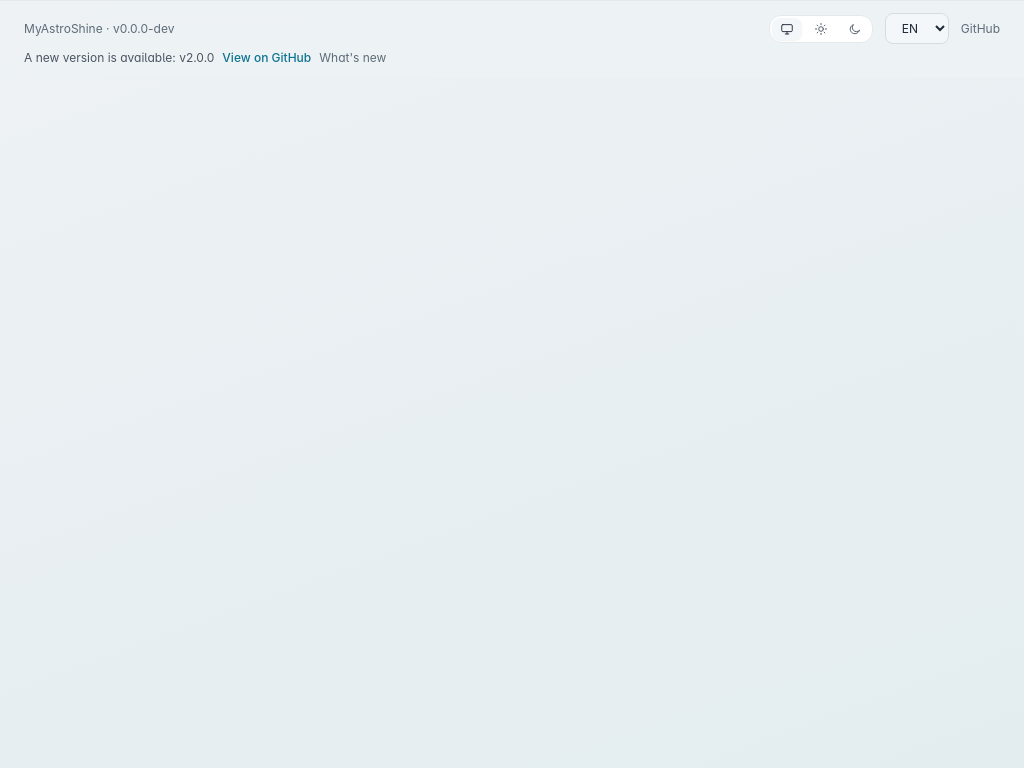
it: Footer › closes the release notes modal
Check: the text "A new version is available: v2.0.0" is shown, box left=24, top=50, right=214, bottom=66
Click the button "What's new" at coordinates (353, 58), box left=319, top=50, right=386, bottom=66
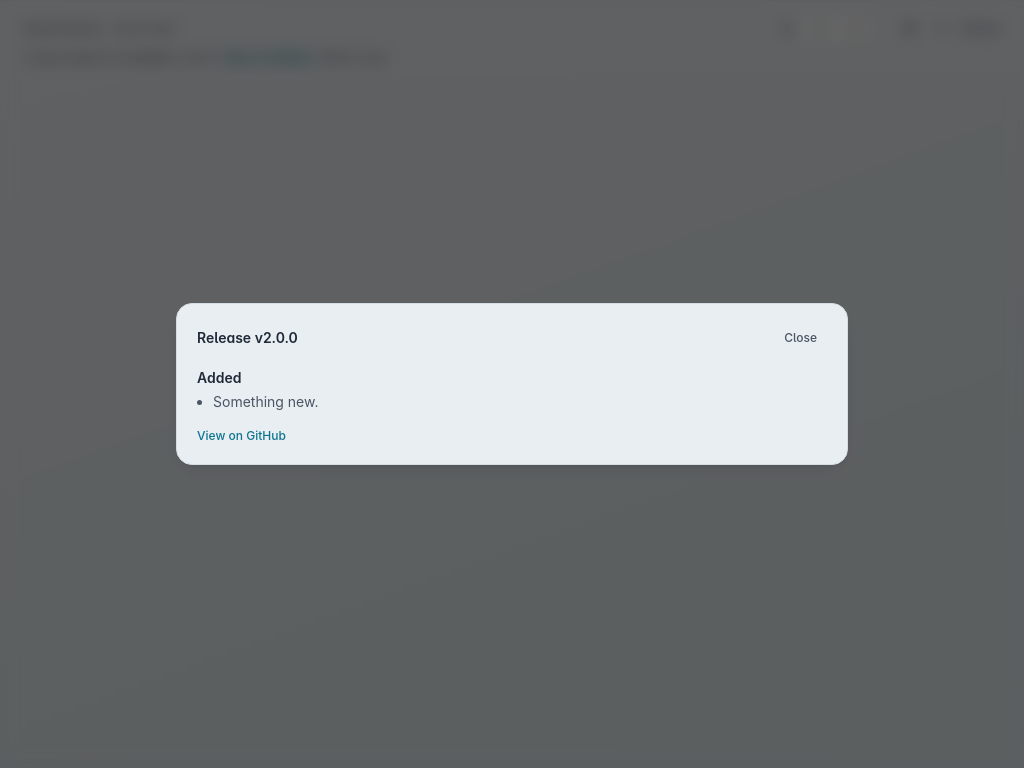
Check: the dialog is shown
Click the button "Close" at coordinates (801, 338), box left=774, top=324, right=827, bottom=352
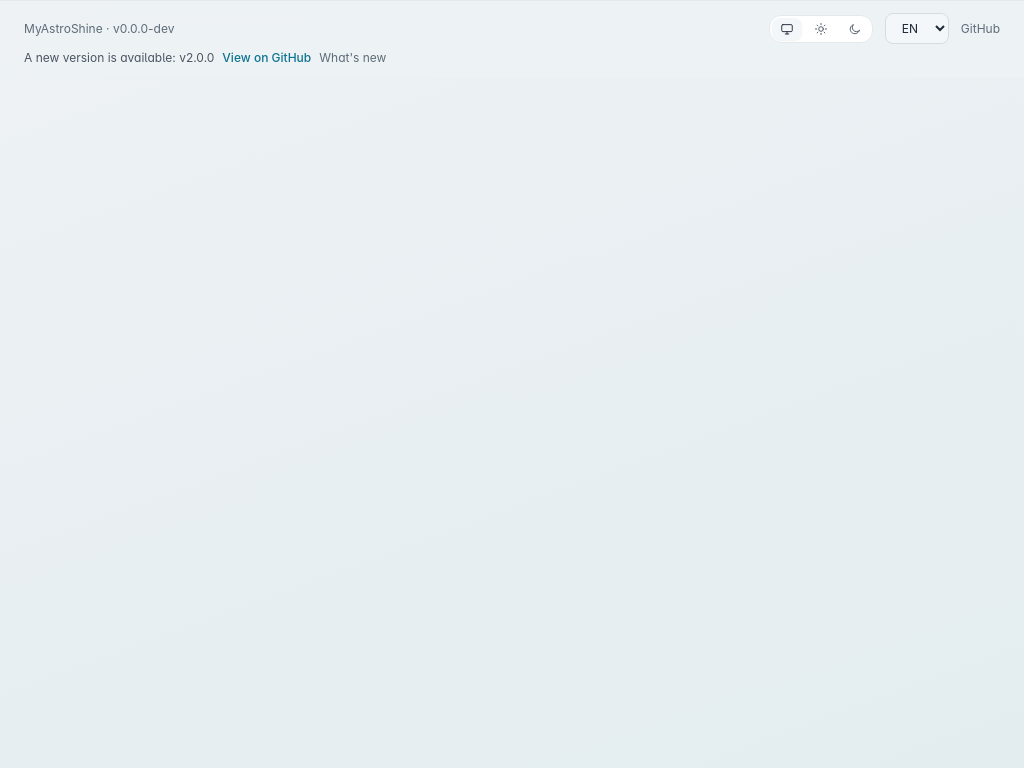
Check: the dialog is gone
